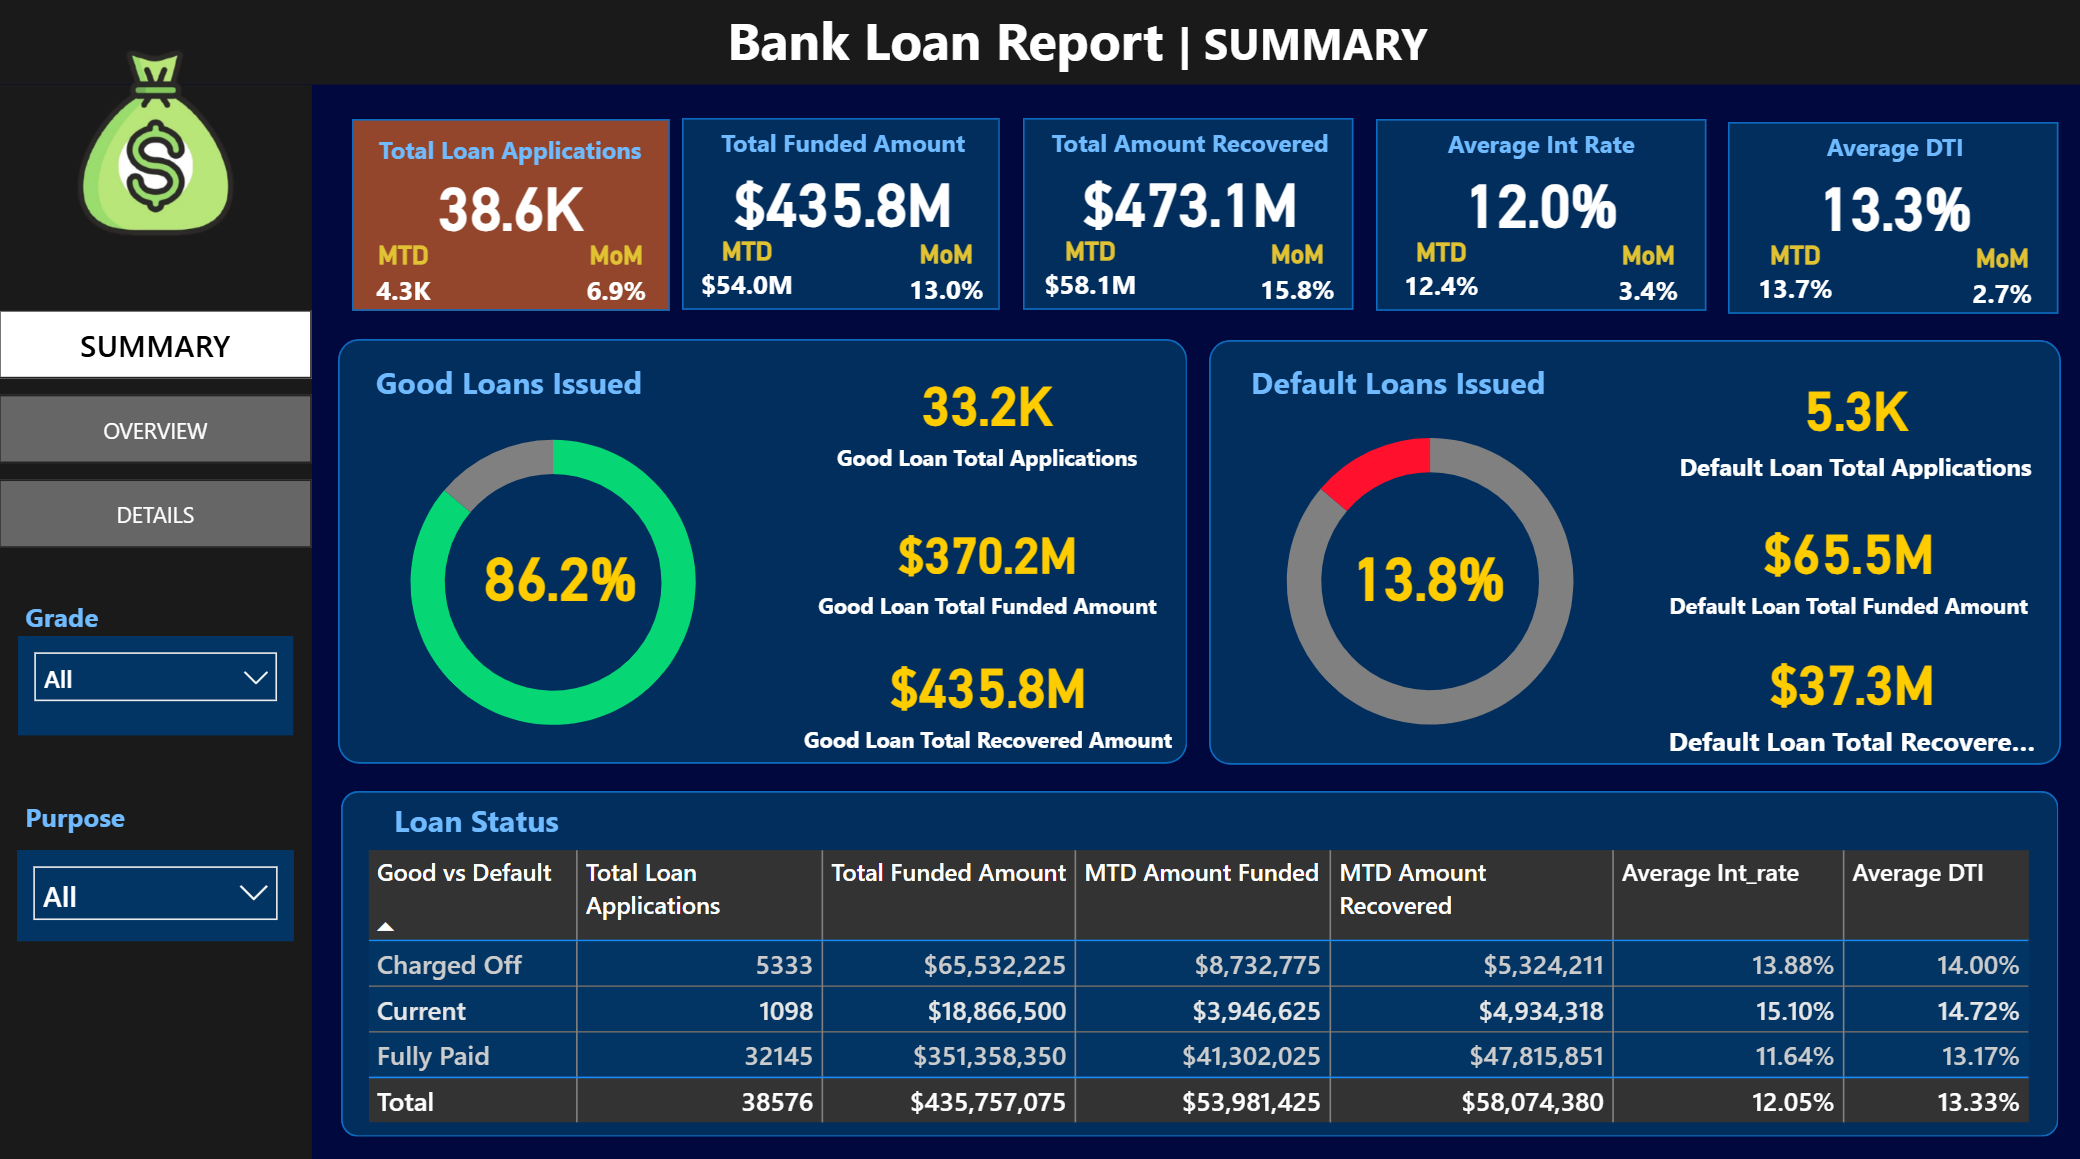

What the dashboard file says about the page in this screenshot:
{"tool":"powerbi","page":{"name":"SUMMARY","canvas":[1280,720],"ordinal":0},"visuals":[{"type":"shape","box":[0,55.2,192.1,664.8],"z":0},{"type":"shape","box":[742.6,211.7,523,260.7],"z":1000},{"type":"shape","box":[0,0,1280.4,55.2],"z":2000},{"type":"textbox","box":[441.9,0,479,71],"z":3000},{"type":"shape","box":[419.5,75.4,195.2,117.7],"z":3000,"group":"g9"},{"type":"shape","box":[628.3,75.4,202.8,117.7],"z":3000,"group":"g10"},{"type":"shape","box":[216.4,76.1,195.2,117.7],"z":3000,"group":"g1"},{"type":"shape","box":[844.9,76.2,202.8,117.7],"z":3000,"group":"g11"},{"type":"shape","box":[1061.5,77.9,202.8,117.7],"z":3000,"group":"g12"},{"type":"group","id":"g1","title":"Group 1","box":[216.1,76.1,195.5,117.7],"z":4000},{"type":"card","fields":{"Values":["financial_loan.Total Funded Amount"]},"box":[422.5,100.7,191.6,50.5],"z":4000,"group":"g2"},{"type":"card","fields":{"Values":["financial_loan.Total Amount Recovered"]},"box":[631.4,100.7,199.1,50.5],"z":4000,"group":"g6"},{"type":"card","fields":{"Values":["financial_loan.Average Int_rate"]},"box":[846.6,101.4,199.1,50.5],"z":4000,"group":"g7"},{"type":"card","fields":{"Values":["financial_loan.Average DTI"]},"box":[1064.6,103.2,199.1,50.5],"z":4000,"group":"g8"},{"type":"card","fields":{"Values":["financial_loan.Total Loan Applications"]},"box":[249.1,105.1,129.6,46.9],"z":4000,"group":"g1"},{"type":"group","id":"g2","title":"Group 2","box":[422.5,75.5,191.6,117.9],"z":4001,"group":"g9"},{"type":"group","id":"g3","title":"Group 2","box":[631.4,75.5,199.1,117.9],"z":4001,"group":"g10"},{"type":"group","id":"g4","title":"Group 2","box":[846.6,76.2,199.1,117.9],"z":4001,"group":"g11"},{"type":"group","id":"g5","title":"Group 2","box":[1064.6,78,199.1,117.9],"z":4001,"group":"g12"},{"type":"group","id":"g6","title":"Group 3","box":[631.4,75.5,199.1,117.9],"z":4002,"group":"g3"},{"type":"group","id":"g7","title":"Group 3","box":[846.6,76.2,199.1,117.9],"z":4002,"group":"g4"},{"type":"group","id":"g8","title":"Group 3","box":[1064.6,78,199.1,117.9],"z":4002,"group":"g5"},{"type":"textbox","box":[422.5,75.5,191.6,40],"z":5000,"group":"g2"},{"type":"textbox","box":[631.4,75.5,199.1,40],"z":5000,"group":"g6"},{"type":"textbox","box":[846.6,76.2,199.1,40],"z":5000,"group":"g7"},{"type":"textbox","box":[1064.6,78,199.1,40],"z":5000,"group":"g8"},{"type":"textbox","box":[218,79.5,191.6,44.2],"z":5000,"group":"g1"},{"type":"shape","box":[208.2,211,521.3,260.7],"z":5000},{"type":"group","id":"g9","title":"Group 1","box":[419.5,75.4,195.1,117.2],"z":6000},{"type":"card","title":"MTD","fields":{"Values":["financial_loan.MTD Amount Funded"]},"box":[422.5,148.1,73.7,45.3],"z":6000,"group":"g2"},{"type":"card","title":"MTD","fields":{"Values":["financial_loan.MTD Amount Recovered"]},"box":[631.4,148.1,76.6,45.3],"z":6000,"group":"g6"},{"type":"card","title":"MTD","fields":{"Values":["financial_loan.MTD Average Rate"]},"box":[846.6,148.8,76.6,45.3],"z":6000,"group":"g7"},{"type":"card","title":"MTD","fields":{"Values":["financial_loan.MTD"]},"box":[216.1,150.4,64.2,43.2],"z":6000,"group":"g1"},{"type":"card","title":"MTD","fields":{"Values":["financial_loan.MTD DTI"]},"box":[1064.6,150.6,76.6,45.3],"z":6000,"group":"g8"},{"type":"card","title":"MoM","fields":{"Values":["financial_loan.Mom Funded Amount"]},"box":[549.7,149.7,64.2,43.2],"z":7000,"group":"g2"},{"type":"card","title":"MoM","fields":{"Values":["financial_loan.MoM Amount Recovered"]},"box":[763.6,149.7,66.7,43.2],"z":7000,"group":"g6"},{"type":"card","title":"MoM","fields":{"Values":["financial_loan.MoM Loan Applications"]},"box":[346.6,150.4,64.2,43.2],"z":7000,"group":"g1"},{"type":"card","title":"MoM","fields":{"Values":["financial_loan.MoM Interest Rate"]},"box":[978.8,150.4,66.7,43.2],"z":7000,"group":"g7"},{"type":"card","title":"MoM","fields":{"Values":["financial_loan.MoM DTI"]},"box":[1196.8,152.2,66.7,43.2],"z":7000,"group":"g8"},{"type":"card","fields":{"Values":["financial_loan.Good Loan %"]},"box":[279.7,332.7,129.2,45.5],"z":7000},{"type":"textbox","box":[217.5,219.6,191.8,44.3],"z":8000},{"type":"group","id":"g10","title":"Group 1","box":[628.3,75.4,202.9,117.4],"z":9000},{"type":"donutChart","fields":{"Category":["financial_loan.Good vs Default Loan"],"Y":["financial_loan.Total Loan Applications"]},"box":[214.9,246,250.6,228.7],"z":10000},{"type":"group","id":"g11","title":"Group 1","box":[844.9,76.2,202.8,117.9],"z":11000},{"type":"group","id":"g12","title":"Group 1","box":[1061.5,77.9,202.5,117.2],"z":12000},{"type":"textbox","box":[752.9,219.5,211.5,44.8],"z":13000},{"type":"card","fields":{"Values":["financial_loan.Good Loan Total Applications"]},"box":[483.9,219,245.6,78.5],"z":14000},{"type":"card","fields":{"Values":["financial_loan.Good Loan Total Funded Amount"]},"box":[484.3,315.6,244.8,70.1],"z":15000},{"type":"donutChart","fields":{"Category":["financial_loan.Good vs Default Loan"],"Y":["financial_loan.Total Loan Applications"]},"box":[752.9,244.8,250.6,229.9],"z":16000},{"type":"card","fields":{"Values":["financial_loan.Good Loan Total Recovered Amount"]},"box":[484.3,393.5,245.5,76.1],"z":17000},{"type":"shape","box":[209.9,488.9,1054.3,212.3],"z":18000},{"type":"card","fields":{"Values":["financial_loan.Default Loan %"]},"box":[809,324.2,136.7,62],"z":19000},{"type":"card","fields":{"Values":["financial_loan.Default Loan Total Applications"]},"box":[1016.5,224,246.1,78],"z":20000},{"type":"card","fields":{"Values":["financial_loan.Default Loan Total Funded Amount"]},"box":[1012.5,310.7,246.4,77.9],"z":21000},{"type":"card","fields":{"Values":["financial_loan.Default Loan Total Recovered Amount"]},"box":[1015.9,388.5,243.1,86.5],"z":22000},{"type":"tableEx","fields":{"Values":["financial_loan.Good vs Default","financial_loan.Total Loan Applications","financial_loan.Total Funded Amount","financial_loan.MTD Amount Funded","financial_loan.MTD Amount Recovered","financial_loan.Average Int_rate","financial_loan.Average DTI"]},"box":[221,519.9,1031.2,189.1],"z":23000},{"type":"textbox","box":[208.1,488.6,170,44.2],"z":24000},{"type":"slicer","fields":{"Values":["financial_loan.grade"]},"box":[11.7,393.5,169.4,60.8],"z":25000},{"type":"textbox","box":[11,365.8,170,31.3],"z":26000},{"type":"slicer","fields":{"Values":["financial_loan.purpose"]},"box":[11,524.8,170,56.5],"z":27000},{"type":"textbox","box":[11,488.6,170,36.2],"z":28000},{"type":"image","box":[0,27.6,192.1,125.8],"z":29000},{"type":"pageNavigator","box":[0,193.4,192.1,146.1],"z":30000}]}

Visuals, with their boxes in screenshot pixels (x1, y1, x2, y2), scaled from the page's 1280x720 canvas onto the 2080x1159 screenshot:
shape: 0:89:312:1158
shape: 1207:341:2057:760
shape: 0:0:2079:89
textbox: 718:0:1496:114
shape: 682:121:999:311
shape: 1021:121:1351:311
shape: 352:122:669:312
shape: 1373:123:1703:312
shape: 1725:125:2054:315
"Group 1" group: 351:122:669:312
card - financial_loan.Total Funded Amount: 687:162:998:243
card - financial_loan.Total Amount Recovered: 1026:162:1350:243
card - financial_loan.Average Int_rate: 1376:163:1699:245
card - financial_loan.Average DTI: 1730:166:2054:247
card - financial_loan.Total Loan Applications: 405:169:615:245
"Group 2" group: 687:122:998:311
"Group 2" group: 1026:122:1350:311
"Group 2" group: 1376:123:1699:312
"Group 2" group: 1730:126:2054:315
"Group 3" group: 1026:122:1350:311
"Group 3" group: 1376:123:1699:312
"Group 3" group: 1730:126:2054:315
textbox: 687:122:998:186
textbox: 1026:122:1350:186
textbox: 1376:123:1699:187
textbox: 1730:126:2054:190
textbox: 354:128:666:199
shape: 338:340:1185:759
"Group 1" group: 682:121:999:310
"MTD" card: 687:238:806:311
"MTD" card: 1026:238:1150:311
"MTD" card: 1376:240:1500:312
"MTD" card: 351:242:455:312
"MTD" card: 1730:242:1854:315
"MoM" card: 893:241:998:311
"MoM" card: 1241:241:1349:311
"MoM" card: 563:242:668:312
"MoM" card: 1591:242:1699:312
"MoM" card: 1945:245:2053:315
card - financial_loan.Good Loan %: 455:536:664:609
textbox: 353:353:665:425
"Group 1" group: 1021:121:1351:310
donutChart - financial_loan.Good vs Default Loan x financial_loan.Total Loan Applications: 349:396:756:764
"Group 1" group: 1373:123:1703:312
"Group 1" group: 1725:125:2054:314
textbox: 1223:353:1567:425
card - financial_loan.Good Loan Total Applications: 786:353:1185:479
card - financial_loan.Good Loan Total Funded Amount: 787:508:1185:621
donutChart - financial_loan.Good vs Default Loan x financial_loan.Total Loan Applications: 1223:394:1631:764
card - financial_loan.Good Loan Total Recovered Amount: 787:633:1186:756
shape: 341:787:2054:1129
card - financial_loan.Default Loan %: 1315:522:1537:622
card - financial_loan.Default Loan Total Applications: 1652:361:2052:486
card - financial_loan.Default Loan Total Funded Amount: 1645:500:2046:626
card - financial_loan.Default Loan Total Recovered Amount: 1651:625:2046:765
tableEx - financial_loan.Good vs Default x financial_loan.Total Loan Applications: 359:837:2035:1141
textbox: 338:787:614:858
slicer - financial_loan.grade: 19:633:294:731
textbox: 18:589:294:639
slicer - financial_loan.purpose: 18:845:294:936
textbox: 18:787:294:845
image: 0:44:312:247
pageNavigator: 0:311:312:547
